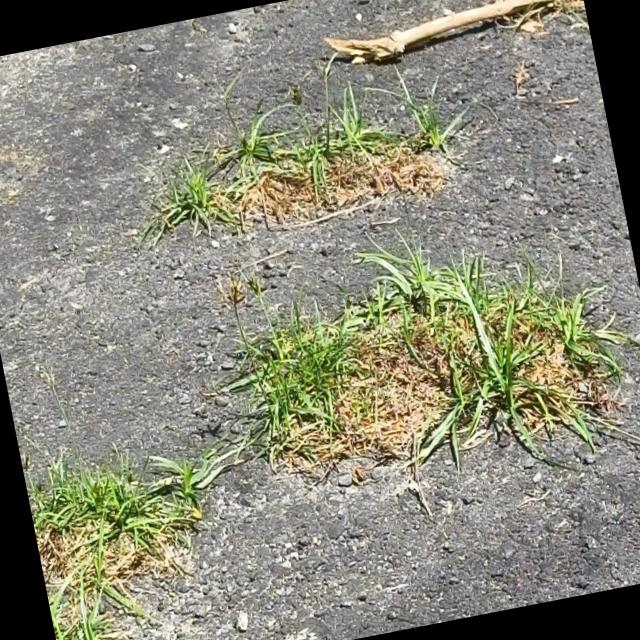cyperus: (211, 254, 282, 324), (32, 355, 64, 404)
